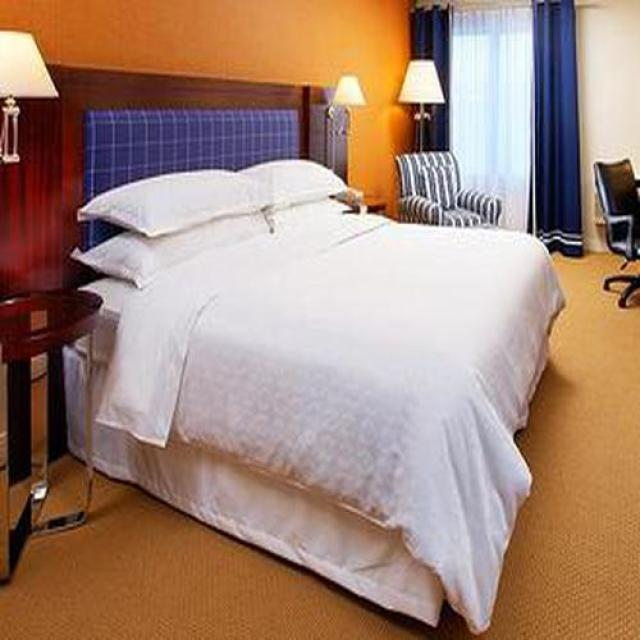bed: (72, 109, 567, 634)
